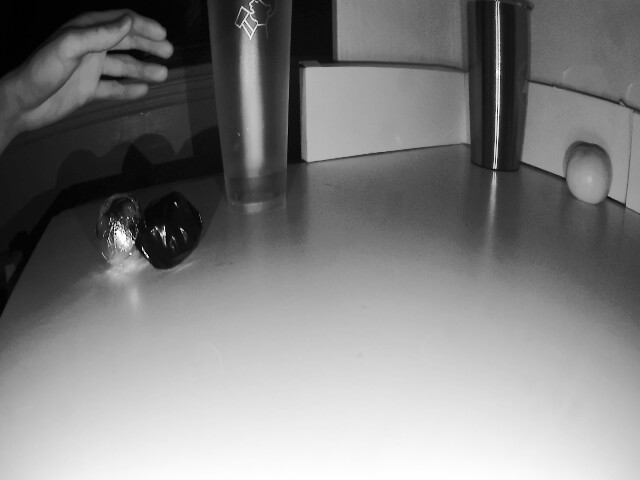black: (141, 196, 201, 267)
silver: (99, 195, 141, 261)
